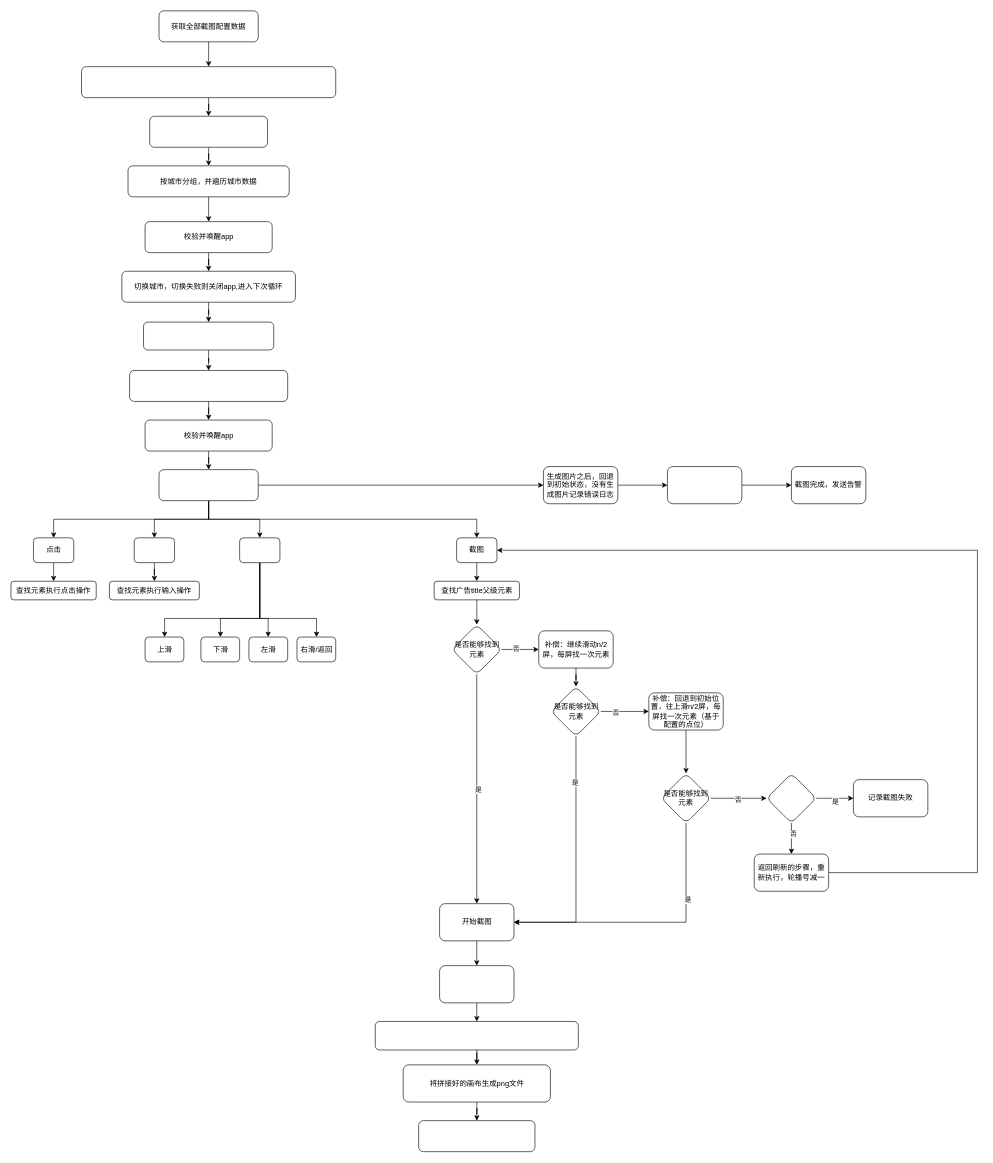
The diagram is 993 pixels wide and 1163 high, and some of its shapes have lost their labels. The shapes that lost their labels are listed below. From the top down, each one's centre as x and y in pixels, then its label:
At pixel 208 82: "基于配置过滤出当前服务要可执行的数据（需要将city=0的数据放到最后）".
At pixel 208 131: "获取提前初始化的驱动".
At pixel 208 335: "遍历点位数据".
At pixel 208 385: "计算各种尺寸".
At pixel 208 485: "执行点位配置".
At pixel 704 485: "重跑几次错误记录".
At pixel 154 550: "输入".
At pixel 259 550: "滑动".
At pixel 791 798: "轮播号是否>1".
At pixel 476 984: "滑动到屏幕中间".
At pixel 476 1035: "截图，并将图片填充到画布，根据找到元素的位置+尺寸，在画布填充一个镂空长方形".
At pixel 476 1136: "将文件上传至COS".
